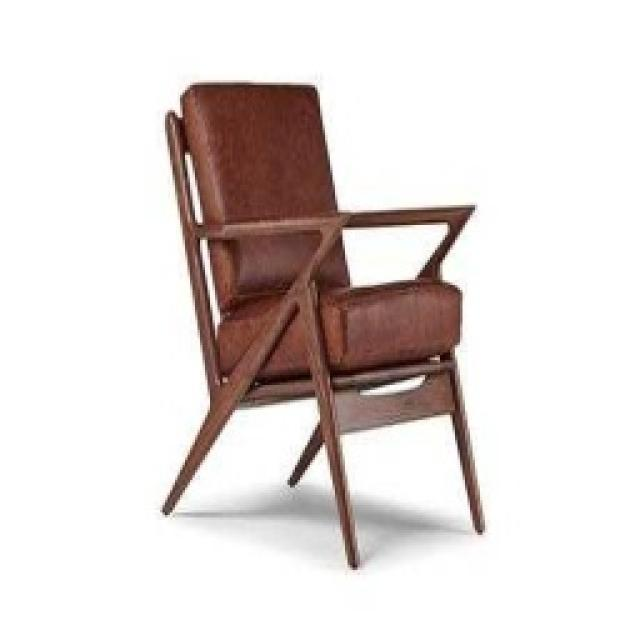sandalye: (157, 80, 485, 568)
